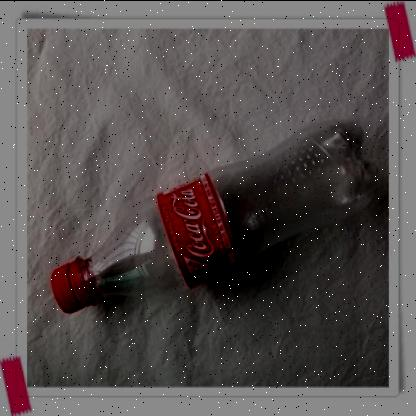Plastic Bottle: (51, 122, 378, 313)
